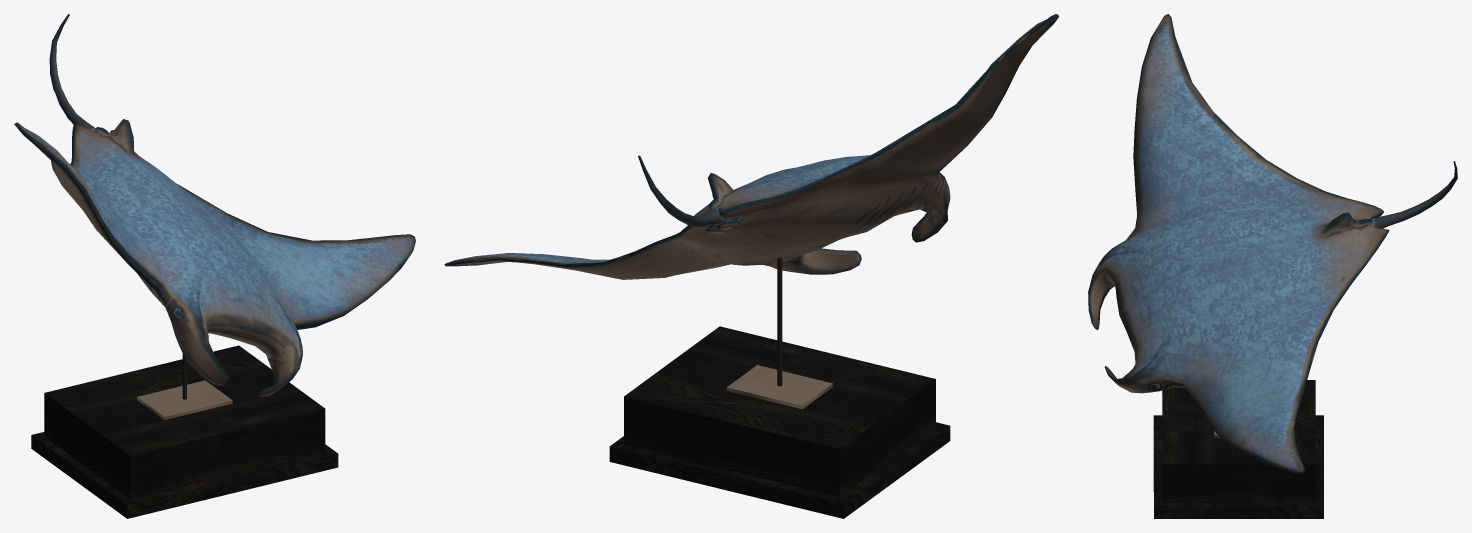
Rendered from bronze_ray_statue.glb.
3 views of the same model, side by side, from view 1: azimuth 30°, elevation 25°; view 2: azimuth 150°, elevation 25°; view 3: azimuth 270°, elevation 25° (orthographic). The views are drawn at different scales.
Parts seen in each view (by area): view 1: bronze_ray_statue; view 2: bronze_ray_statue; view 3: bronze_ray_statue.
Part boxes in pixels (x1,y1,x2,y2): bronze_ray_statue: [14, 14, 415, 518]; bronze_ray_statue: [444, 14, 1059, 518]; bronze_ray_statue: [1088, 14, 1457, 518].
Bounding box in the file's own units: 0.7075 × 0.5896 × 0.5355.
Materials: 1 (1 with a texture image).
